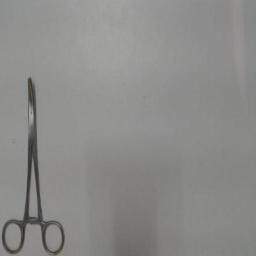Crile Artery Forceps: (0, 71, 68, 255)
